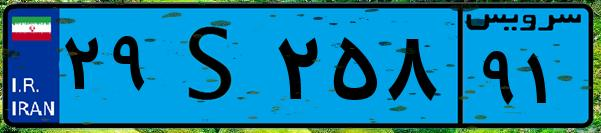1: (525, 38, 570, 115)
2: (270, 28, 330, 110), (57, 26, 110, 100)
5: (330, 28, 385, 110)
8: (385, 28, 445, 110)
9: (475, 38, 525, 113), (110, 28, 158, 98)
S: (158, 12, 270, 120)
